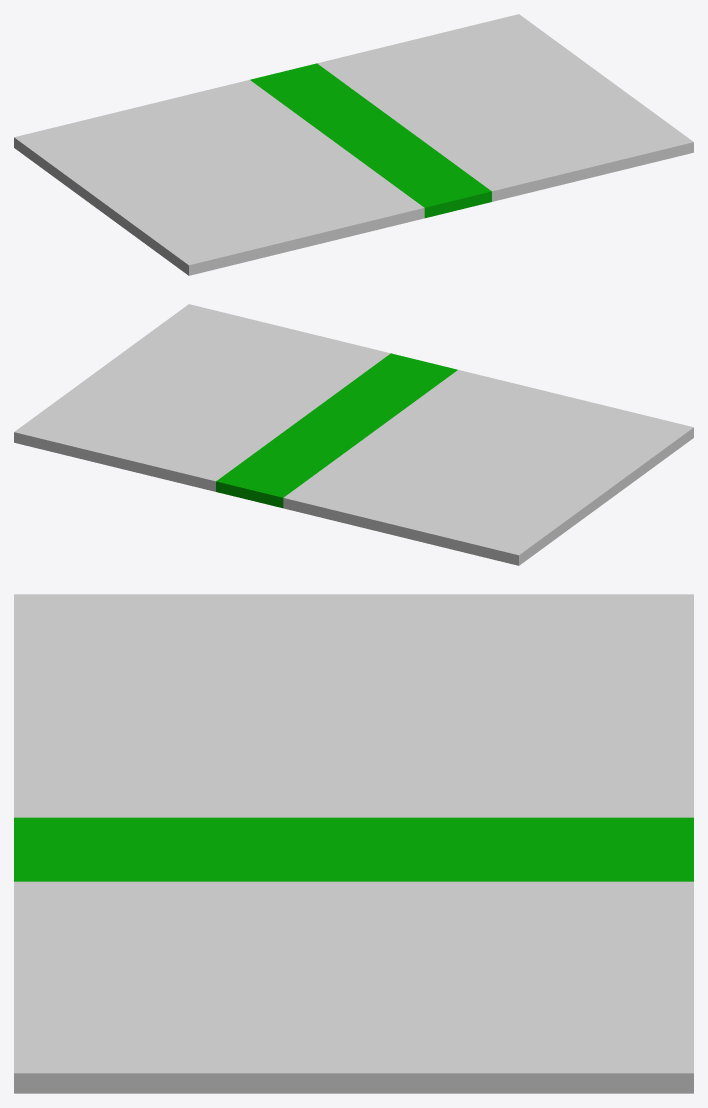
The model's file is Finish(clone).fbx.
3 renders of one model, top to bottom at view 1: azimuth 30°, elevation 25°; view 2: azimuth 150°, elevation 25°; view 3: azimuth 270°, elevation 25°, orthographic. The views are drawn at different scales.
Parts seen in each view (by area): view 1: Box001, Finish; view 2: Box001, Finish; view 3: Box001, Finish.
Part boxes in pixels (box(x1,y1,x2,y2)): Box001: box(14, 14, 693, 275); Finish: box(250, 63, 491, 218); Box001: box(14, 304, 693, 565); Finish: box(216, 353, 457, 508); Box001: box(14, 594, 693, 1093); Finish: box(14, 817, 693, 881).
Size of the model in its own units: 394 by 7.87 by 236.
